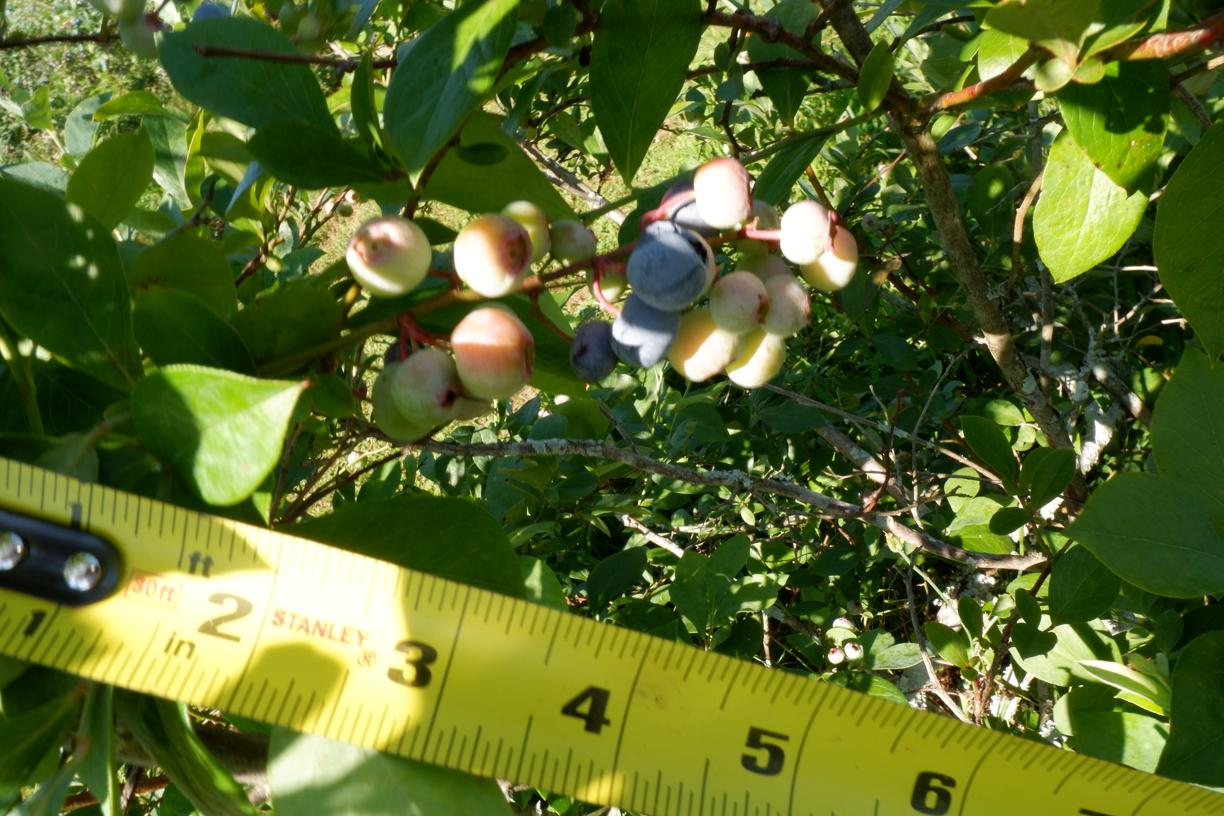Immature: (451, 300, 536, 399), (345, 215, 433, 298), (453, 214, 534, 298), (390, 348, 464, 428), (371, 360, 438, 442), (666, 307, 740, 381), (693, 158, 754, 228), (799, 224, 859, 291), (710, 270, 770, 335), (726, 326, 785, 388), (780, 201, 837, 263), (758, 275, 813, 339), (719, 199, 780, 255), (499, 199, 552, 262), (550, 219, 596, 265), (587, 260, 627, 303), (736, 255, 794, 282), (382, 339, 427, 365), (456, 396, 496, 421)
Mature: (627, 222, 716, 312), (609, 293, 681, 368), (659, 181, 720, 239), (569, 320, 617, 384)
